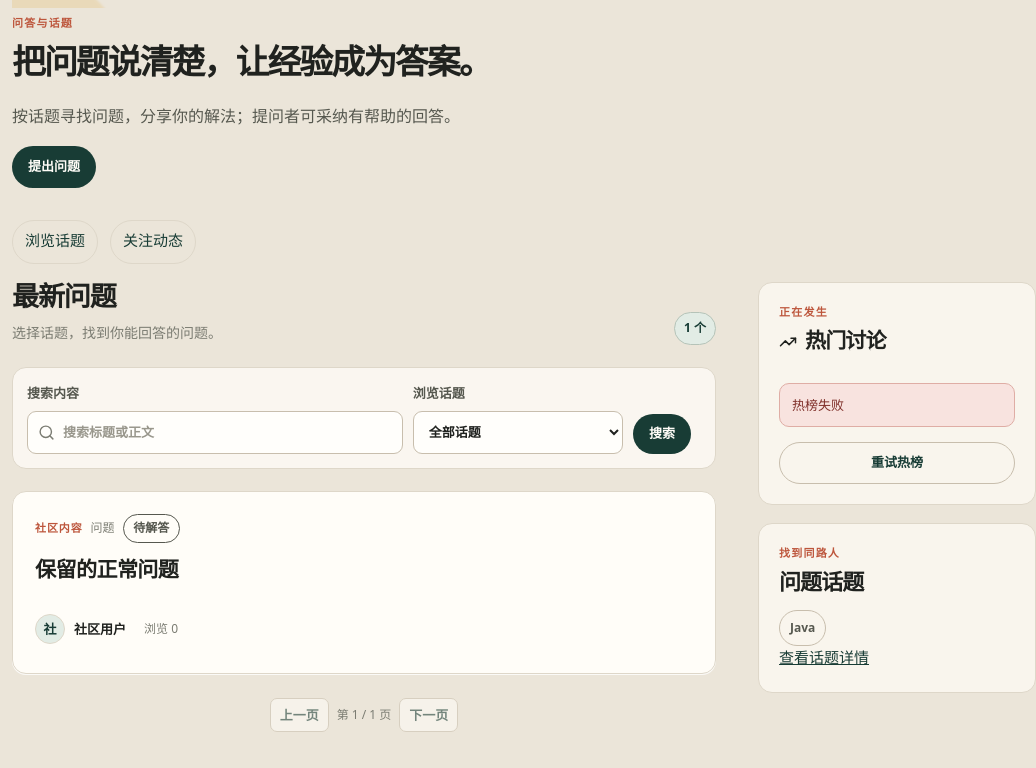
问答列表 › retries only hot discussions without clearing or requesting the healthy feed
The image size is (1036, 768).
Click the button "重试热榜": x=897, y=463 top-left (779, 442), bottom-right (1015, 484)
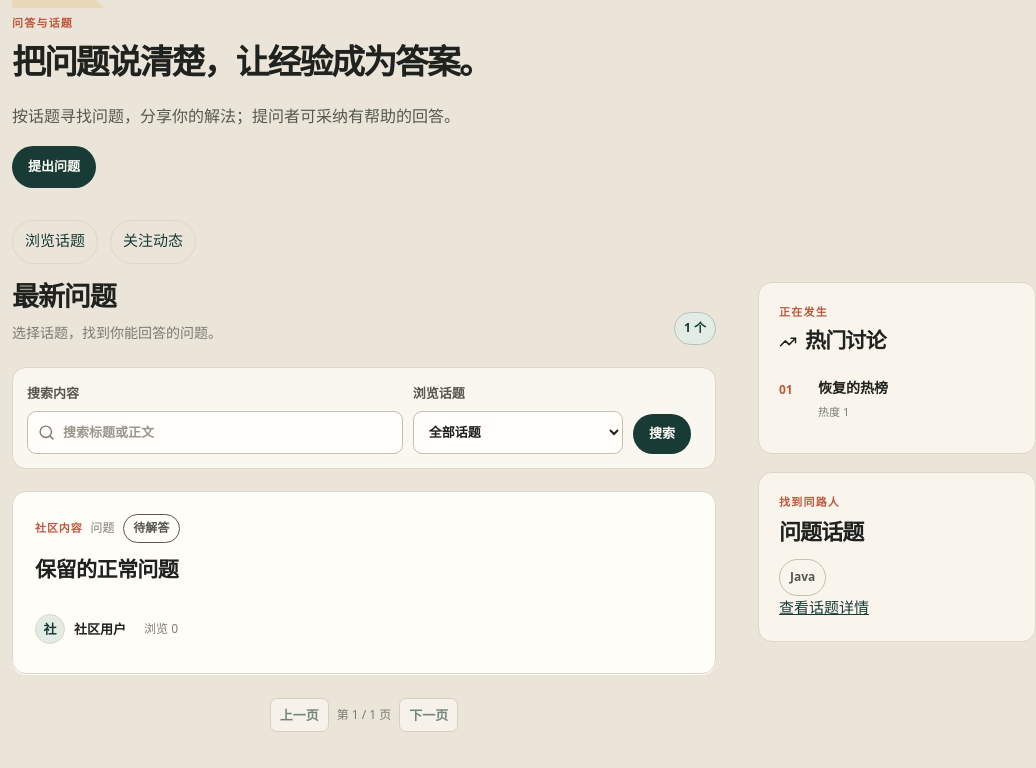
Expected: the button "01 恢复的热榜 热度 1" is shown, top-left (779, 368), bottom-right (1015, 433)
